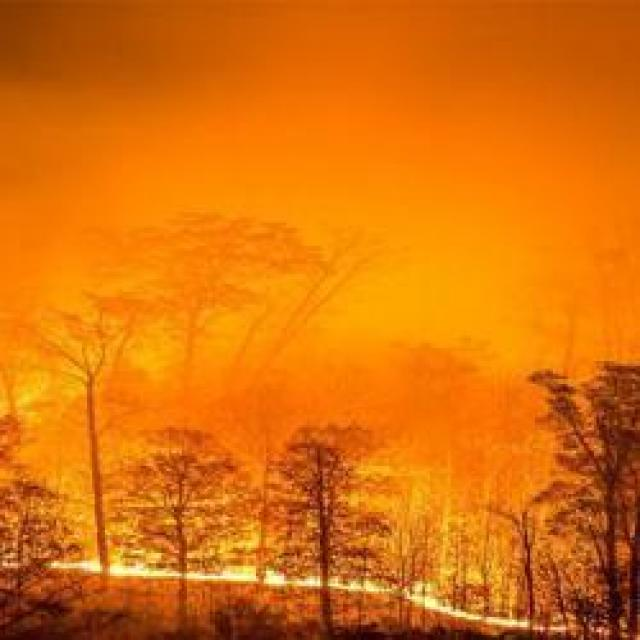fire: (57, 557, 98, 573), (109, 562, 143, 578), (489, 614, 525, 629), (343, 579, 378, 594), (417, 595, 442, 610), (227, 570, 254, 582), (264, 572, 282, 584)
smoke: (0, 50, 108, 252), (550, 125, 640, 234)
